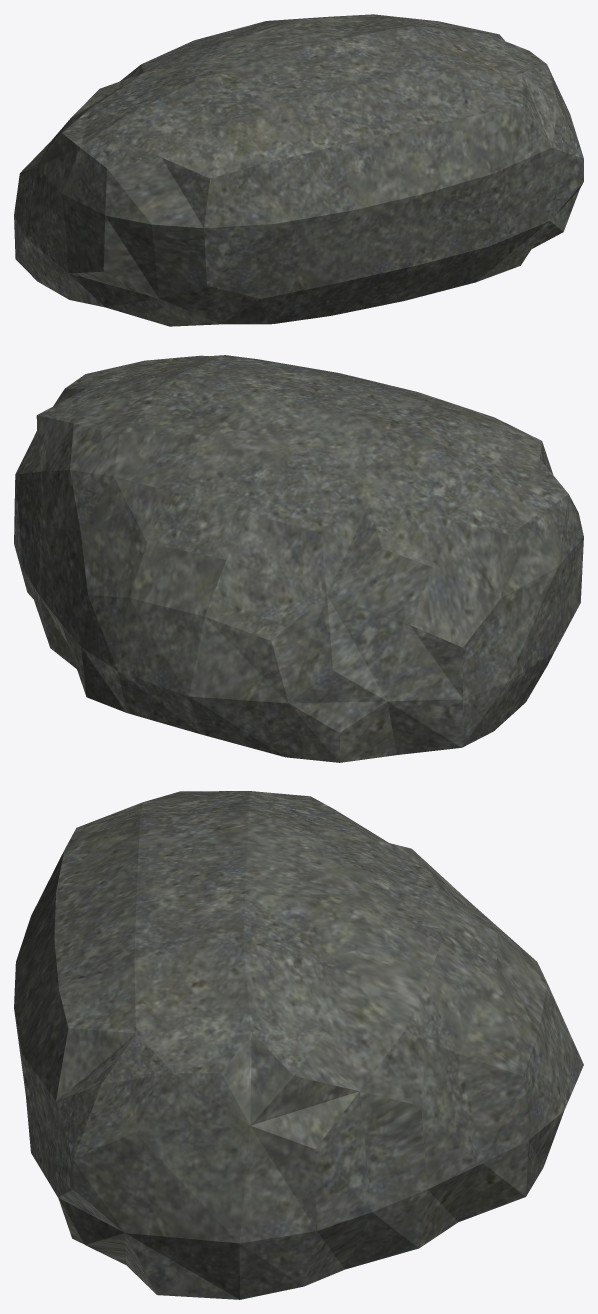
The model's file is sweethome3d-blendswap-cc-0-rock-162.glb.
The picture shows the model from 3 angles, top to bottom: view 1: azimuth 30°, elevation 25°; view 2: azimuth 150°, elevation 25°; view 3: azimuth 270°, elevation 25°; orthographic projection. The views are drawn at different scales.
Visible parts, largest first — view 1: Rock02v3_Rock02.002; view 2: Rock02v3_Rock02.002; view 3: Rock02v3_Rock02.002.
Boxes of the visible parts, x1=… form: Rock02v3_Rock02.002: x1=14, y1=14, x2=583, y2=326; Rock02v3_Rock02.002: x1=14, y1=355, x2=583, y2=762; Rock02v3_Rock02.002: x1=14, y1=791, x2=583, y2=1299.
Size of the model in its own units: 68.97 by 30.68 by 53.41.
Materials: 1 (1 with a texture image).
